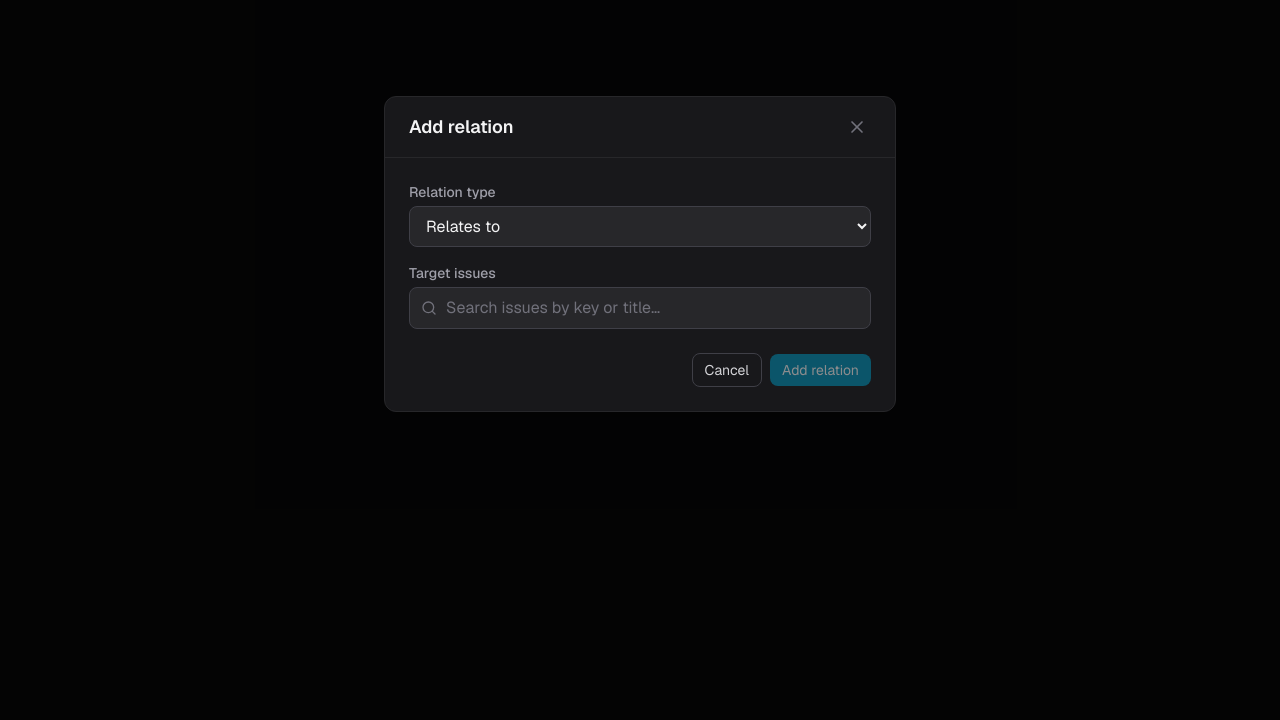
Test: AddRelationModal › renders the friendly message for backend code NOT_FOUND
Type "tar" into the dropdown labelled "Target issues" at (640, 308), box [409,287,871,329]
Wait 300 ms
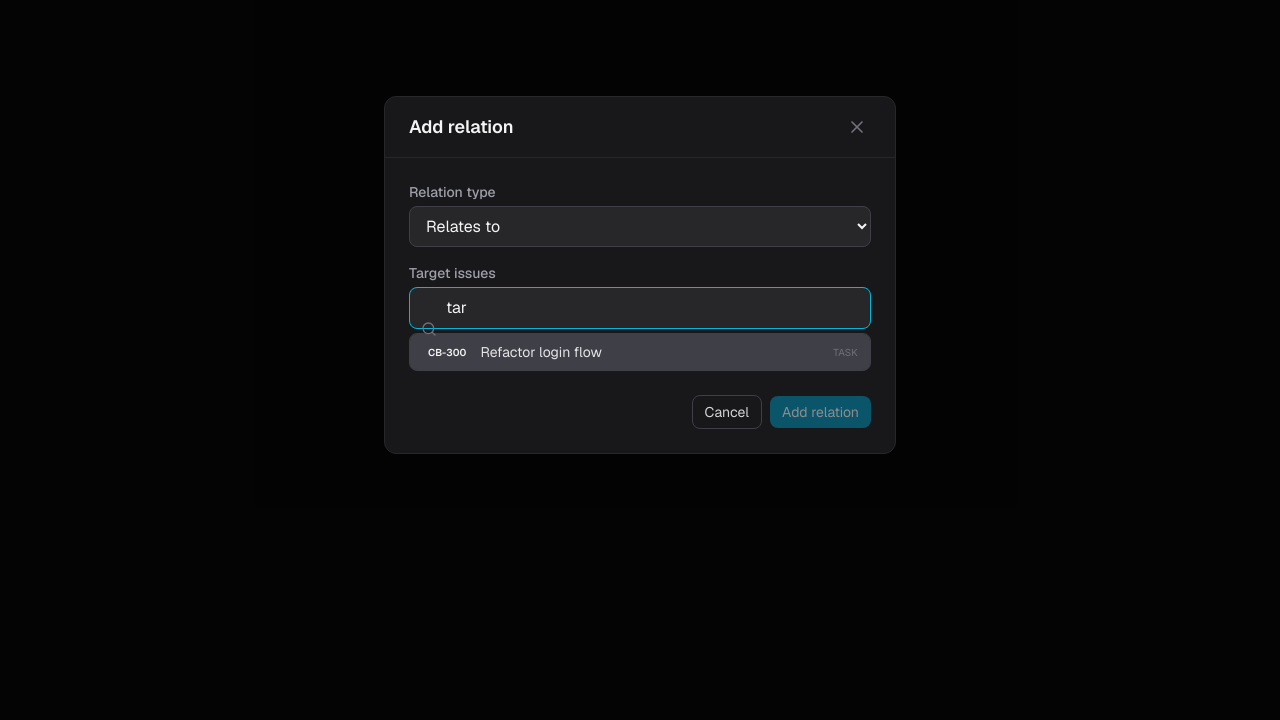
Press the mouse on the option "CB-300 Refactor login flow TASK" at (447, 352), box [410,334,870,370]
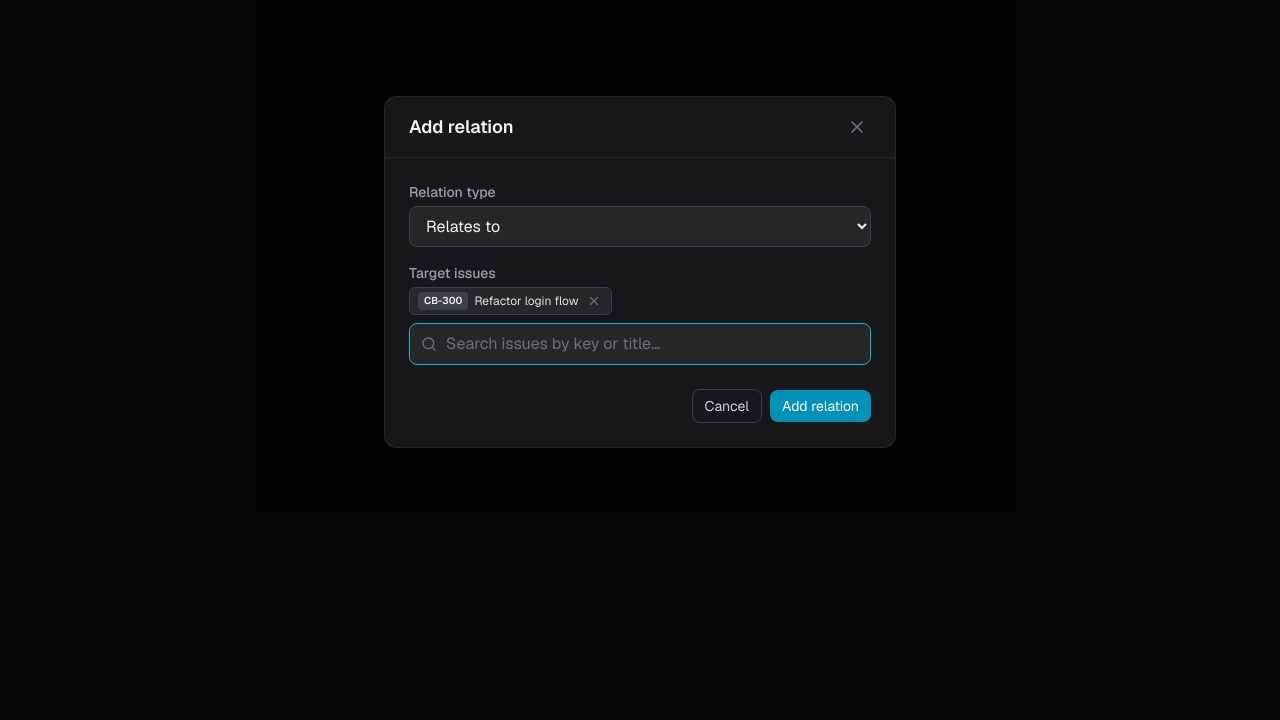
Click the button "Add relation" at (820, 406), box [770,390,871,422]
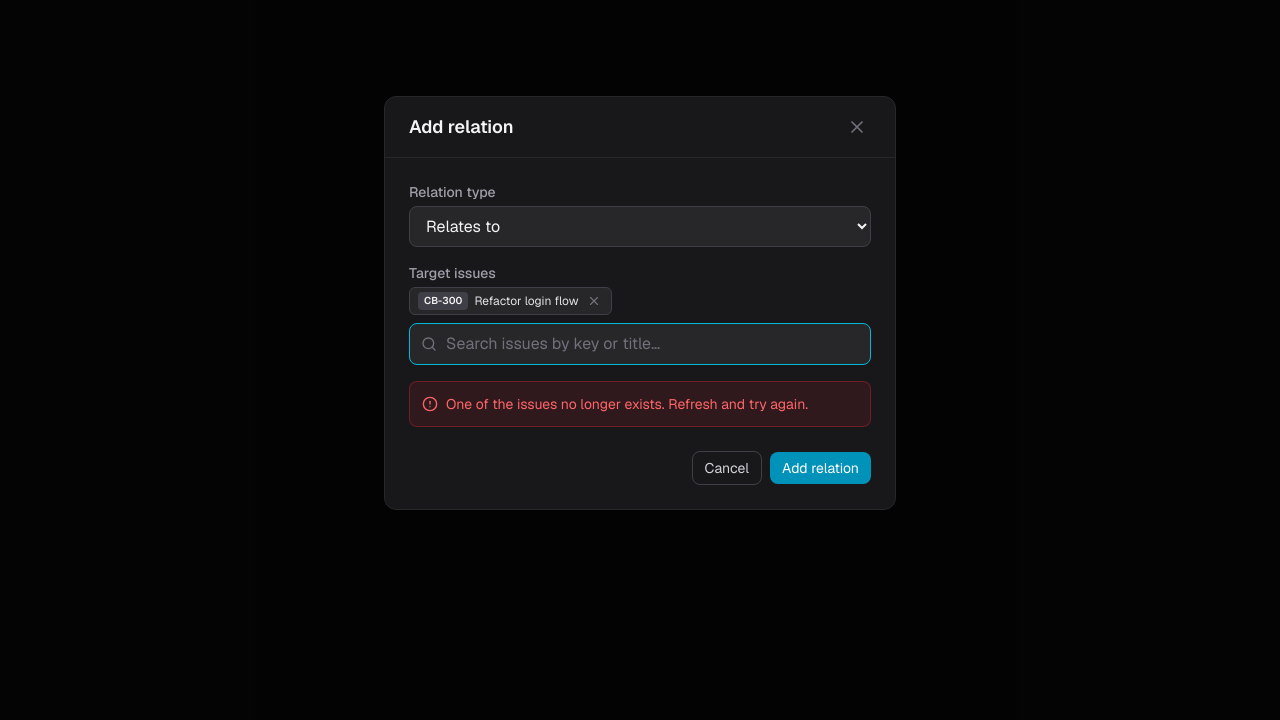
Expected: the text "One of the issues no longer exists. Refresh and try again." is shown, [446,394,808,414]
